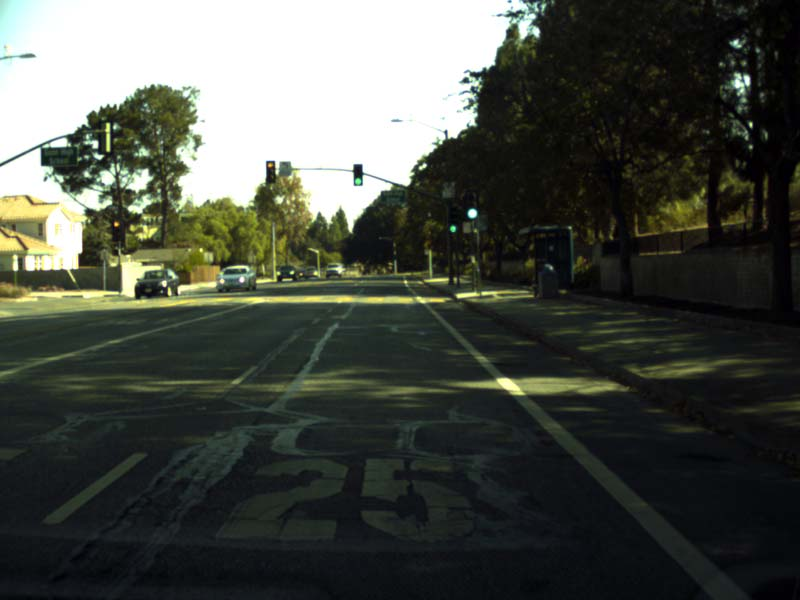Green: (465, 188, 478, 219), (447, 206, 458, 233), (354, 163, 363, 185)
Red: (111, 216, 124, 241), (265, 160, 275, 184)
